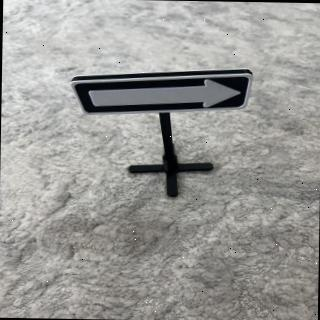sign_oneway_right: (69, 68, 260, 121)
